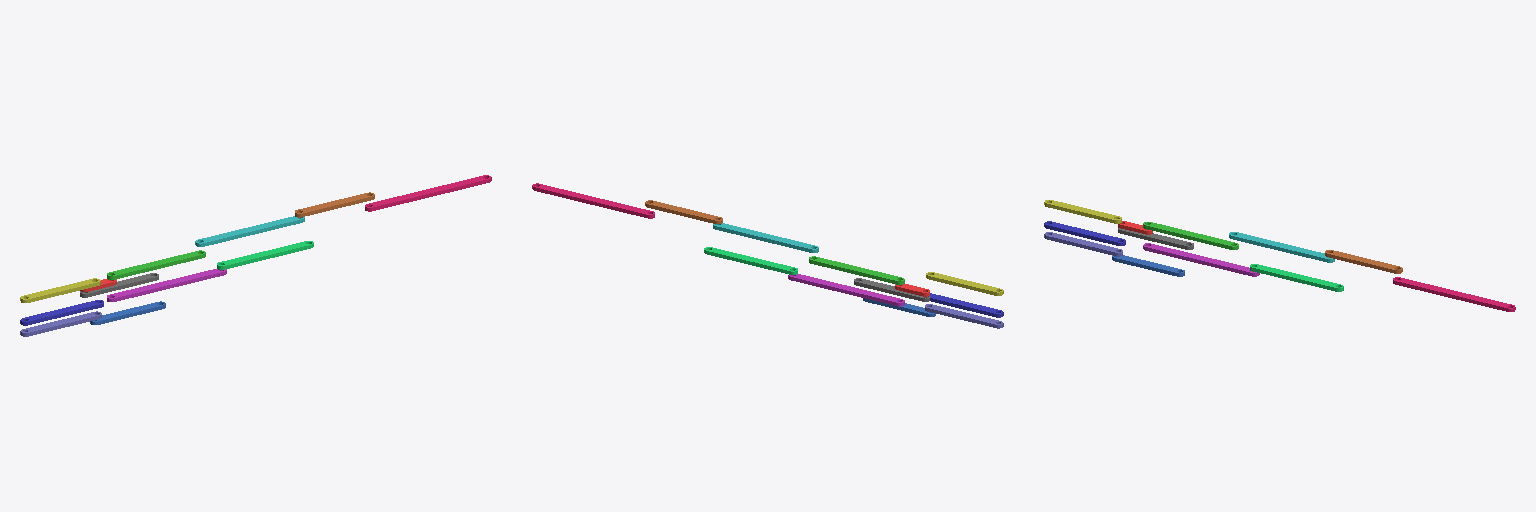
The robot description file, URDF, robot "theo_jansen_leg":
<?xml version="1.0"?>
<robot name="theo_jansen_leg">

  <link name="chassis">
    <visual>
      <origin xyz="0 0 0" rpy="0 0 0"/>
      <geometry><mesh filename="meshes/chassis.stl" scale="0.001 0.001 0.001"/></geometry>
      <material name="m_chassis"><color rgba="0.5 0.5 0.5 1.0"/></material>
    </visual>
    <inertial>
      <mass value="0.005"/>
      <origin xyz="0.0194 0 0"/>
      <inertia ixx="1e-7" ixy="0" ixz="0" iyy="1e-7" iyz="0" izz="1e-7"/>
    </inertial>
  </link>

  <link name="crank_AC">
    <visual>
      <origin xyz="0 0 0" rpy="0 0 0"/>
      <geometry><mesh filename="meshes/crank_AC.stl" scale="0.001 0.001 0.001"/></geometry>
      <material name="m_crank_AC"><color rgba="1 0.3 0.3 1.0"/></material>
    </visual>
    <inertial>
      <mass value="0.005"/>
      <origin xyz="0.0075 0 0"/>
      <inertia ixx="1e-7" ixy="0" ixz="0" iyy="1e-7" iyz="0" izz="1e-7"/>
    </inertial>
  </link>

  <link name="link_CD">
    <visual>
      <origin xyz="0 0 0" rpy="0 0 0"/>
      <geometry><mesh filename="meshes/link_CD.stl" scale="0.001 0.001 0.001"/></geometry>
      <material name="m_link_CD"><color rgba="0.3 0.8 0.3 1.0"/></material>
    </visual>
    <inertial>
      <mass value="0.005"/>
      <origin xyz="0.0250 0 0"/>
      <inertia ixx="1e-7" ixy="0" ixz="0" iyy="1e-7" iyz="0" izz="1e-7"/>
    </inertial>
  </link>

  <link name="link_BD">
    <visual>
      <origin xyz="0 0 0" rpy="0 0 0"/>
      <geometry><mesh filename="meshes/link_BD.stl" scale="0.001 0.001 0.001"/></geometry>
      <material name="m_link_BD"><color rgba="0.3 0.3 0.8 1.0"/></material>
    </visual>
    <inertial>
      <mass value="0.005"/>
      <origin xyz="0.0208 0 0"/>
      <inertia ixx="1e-7" ixy="0" ixz="0" iyy="1e-7" iyz="0" izz="1e-7"/>
    </inertial>
  </link>

  <link name="link_BE">
    <visual>
      <origin xyz="0 0 0" rpy="0 0 0"/>
      <geometry><mesh filename="meshes/link_BE.stl" scale="0.001 0.001 0.001"/></geometry>
      <material name="m_link_BE"><color rgba="0.8 0.8 0.3 1.0"/></material>
    </visual>
    <inertial>
      <mass value="0.005"/>
      <origin xyz="0.0196 0 0"/>
      <inertia ixx="1e-7" ixy="0" ixz="0" iyy="1e-7" iyz="0" izz="1e-7"/>
    </inertial>
  </link>

  <link name="link_CE">
    <visual>
      <origin xyz="0 0 0" rpy="0 0 0"/>
      <geometry><mesh filename="meshes/link_CE.stl" scale="0.001 0.001 0.001"/></geometry>
      <material name="m_link_CE"><color rgba="0.8 0.3 0.8 1.0"/></material>
    </visual>
    <inertial>
      <mass value="0.005"/>
      <origin xyz="0.0309 0 0"/>
      <inertia ixx="1e-7" ixy="0" ixz="0" iyy="1e-7" iyz="0" izz="1e-7"/>
    </inertial>
  </link>

  <link name="link_DF">
    <visual>
      <origin xyz="0 0 0" rpy="0 0 0"/>
      <geometry><mesh filename="meshes/link_DF.stl" scale="0.001 0.001 0.001"/></geometry>
      <material name="m_link_DF"><color rgba="0.3 0.8 0.8 1.0"/></material>
    </visual>
    <inertial>
      <mass value="0.005"/>
      <origin xyz="0.0279 0 0"/>
      <inertia ixx="1e-7" ixy="0" ixz="0" iyy="1e-7" iyz="0" izz="1e-7"/>
    </inertial>
  </link>

  <link name="link_BF">
    <visual>
      <origin xyz="0 0 0" rpy="0 0 0"/>
      <geometry><mesh filename="meshes/link_BF.stl" scale="0.001 0.001 0.001"/></geometry>
      <material name="m_link_BF"><color rgba="0.5 0.5 0.8 1.0"/></material>
    </visual>
    <inertial>
      <mass value="0.005"/>
      <origin xyz="0.0201 0 0"/>
      <inertia ixx="1e-7" ixy="0" ixz="0" iyy="1e-7" iyz="0" izz="1e-7"/>
    </inertial>
  </link>

  <link name="link_FG">
    <visual>
      <origin xyz="0 0 0" rpy="0 0 0"/>
      <geometry><mesh filename="meshes/link_FG.stl" scale="0.001 0.001 0.001"/></geometry>
      <material name="m_link_FG"><color rgba="0.8 0.5 0.3 1.0"/></material>
    </visual>
    <inertial>
      <mass value="0.005"/>
      <origin xyz="0.0197 0 0"/>
      <inertia ixx="1e-7" ixy="0" ixz="0" iyy="1e-7" iyz="0" izz="1e-7"/>
    </inertial>
  </link>

  <link name="link_EG">
    <visual>
      <origin xyz="0 0 0" rpy="0 0 0"/>
      <geometry><mesh filename="meshes/link_EG.stl" scale="0.001 0.001 0.001"/></geometry>
      <material name="m_link_EG"><color rgba="0.3 0.5 0.8 1.0"/></material>
    </visual>
    <inertial>
      <mass value="0.005"/>
      <origin xyz="0.0184 0 0"/>
      <inertia ixx="1e-7" ixy="0" ixz="0" iyy="1e-7" iyz="0" izz="1e-7"/>
    </inertial>
  </link>

  <link name="link_GH">
    <visual>
      <origin xyz="0 0 0" rpy="0 0 0"/>
      <geometry><mesh filename="meshes/link_GH.stl" scale="0.001 0.001 0.001"/></geometry>
      <material name="m_link_GH"><color rgba="0.9 0.2 0.5 1.0"/></material>
    </visual>
    <inertial>
      <mass value="0.005"/>
      <origin xyz="0.0329 0 0"/>
      <inertia ixx="1e-7" ixy="0" ixz="0" iyy="1e-7" iyz="0" izz="1e-7"/>
    </inertial>
  </link>

  <link name="link_EH">
    <visual>
      <origin xyz="0 0 0" rpy="0 0 0"/>
      <geometry><mesh filename="meshes/link_EH.stl" scale="0.001 0.001 0.001"/></geometry>
      <material name="m_link_EH"><color rgba="0.2 0.9 0.5 1.0"/></material>
    </visual>
    <inertial>
      <mass value="0.005"/>
      <origin xyz="0.0245 0 0"/>
      <inertia ixx="1e-7" ixy="0" ixz="0" iyy="1e-7" iyz="0" izz="1e-7"/>
    </inertial>
  </link>
  <joint name="j_crank" type="revolute">
    <parent link="chassis"/><child link="crank_AC"/>
    <origin xyz="0 0 0.0030" rpy="0 0 0"/>
    <axis xyz="0 0 1"/>
    <limit lower="-6.28" upper="6.28" effort="1" velocity="6.28"/>
  </joint>
  <joint name="j_C_CD" type="revolute">
    <parent link="crank_AC"/><child link="link_CD"/>
    <origin xyz="0.0150 0 0.0030" rpy="0 0 0"/>
    <axis xyz="0 0 1"/>
    <limit lower="-6.28" upper="6.28" effort="1" velocity="6.28"/>
  </joint>
  <joint name="j_B_BD" type="revolute">
    <parent link="chassis"/><child link="link_BD"/>
    <origin xyz="-0.0380 -0.0078 -0.0030" rpy="0 0 0"/>
    <axis xyz="0 0 1"/>
    <limit lower="-6.28" upper="6.28" effort="1" velocity="6.28"/>
  </joint>
  <joint name="j_C_CE" type="revolute">
    <parent link="crank_AC"/><child link="link_CE"/>
    <origin xyz="0.0150 0 -0.0090" rpy="0 0 0"/>
    <axis xyz="0 0 1"/>
    <limit lower="-6.28" upper="6.28" effort="1" velocity="6.28"/>
  </joint>
  <joint name="j_B_BE" type="revolute">
    <parent link="chassis"/><child link="link_BE"/>
    <origin xyz="-0.0380 -0.0078 0.0090" rpy="0 0 0"/>
    <axis xyz="0 0 1"/>
    <limit lower="-6.28" upper="6.28" effort="1" velocity="6.28"/>
  </joint>
  <joint name="j_D_DF" type="revolute">
    <parent link="link_CD"/><child link="link_DF"/>
    <origin xyz="0.0500 0 0.0060" rpy="0 0 0"/>
    <axis xyz="0 0 1"/>
    <limit lower="-6.28" upper="6.28" effort="1" velocity="6.28"/>
  </joint>
  <joint name="j_B_BF" type="revolute">
    <parent link="chassis"/><child link="link_BF"/>
    <origin xyz="-0.0380 -0.0078 -0.0090" rpy="0 0 0"/>
    <axis xyz="0 0 1"/>
    <limit lower="-6.28" upper="6.28" effort="1" velocity="6.28"/>
  </joint>
  <joint name="j_F_FG" type="revolute">
    <parent link="link_DF"/><child link="link_FG"/>
    <origin xyz="0.0558 0 0.0030" rpy="0 0 0"/>
    <axis xyz="0 0 1"/>
    <limit lower="-6.28" upper="6.28" effort="1" velocity="6.28"/>
  </joint>
  <joint name="j_E_EG" type="revolute">
    <parent link="link_BE"/><child link="link_EG"/>
    <origin xyz="0.0393 0 -0.0210" rpy="0 0 0"/>
    <axis xyz="0 0 1"/>
    <limit lower="-6.28" upper="6.28" effort="1" velocity="6.28"/>
  </joint>
  <joint name="j_G_GH" type="revolute">
    <parent link="link_FG"/><child link="link_GH"/>
    <origin xyz="0.0394 0 -0.0060" rpy="0 0 0"/>
    <axis xyz="0 0 1"/>
    <limit lower="-6.28" upper="6.28" effort="1" velocity="6.28"/>
  </joint>
  <joint name="j_E_EH" type="revolute">
    <parent link="link_CE"/><child link="link_EH"/>
    <origin xyz="0.0619 0 0.0030" rpy="0 0 0"/>
    <axis xyz="0 0 1"/>
    <limit lower="-6.28" upper="6.28" effort="1" velocity="6.28"/>
  </joint>

</robot>

--- Facts derived from the render (not from the file) ---
The picture shows the robot from 3 angles, left to right: view 1: azimuth 30°, elevation 25°; view 2: azimuth 150°, elevation 25°; view 3: azimuth 330°, elevation 25°; orthographic projection.
Model theo_jansen_leg with 12 links and 11 joints (11 revolute), rooted at chassis, posed every joint at zero.
Links seen in each view (by area): view 1: link_GH, link_CE, link_DF, link_CD, link_EH, link_BD, link_BF, link_BE, link_FG, link_EG, chassis; view 2: link_GH, link_CE, link_DF, link_CD, link_EH, link_BF, link_BE, link_FG, link_BD, chassis; view 3: link_GH, link_CE, link_DF, link_CD, link_EH, link_BD, link_BF, link_BE, link_FG, link_EG, chassis.
Boxes of the visible links, bbox=[...] form: link_GH: bbox=[365, 175, 491, 211]; link_CE: bbox=[107, 269, 226, 301]; link_DF: bbox=[195, 216, 304, 246]; link_CD: bbox=[107, 250, 205, 279]; link_EH: bbox=[217, 241, 313, 269]; link_BD: bbox=[20, 300, 103, 325]; link_BF: bbox=[20, 311, 101, 336]; link_BE: bbox=[20, 278, 100, 302]; link_FG: bbox=[295, 192, 374, 217]; link_EG: bbox=[90, 301, 165, 324]; chassis: bbox=[80, 273, 158, 297]; link_GH: bbox=[532, 183, 654, 218]; link_CE: bbox=[788, 274, 904, 306]; link_DF: bbox=[713, 223, 818, 252]; link_CD: bbox=[809, 256, 904, 284]; link_EH: bbox=[704, 247, 797, 274]; link_BF: bbox=[925, 304, 1003, 328]; link_BE: bbox=[926, 272, 1003, 295]; link_FG: bbox=[645, 200, 722, 223]; link_BD: bbox=[930, 293, 1003, 317]; chassis: bbox=[854, 278, 929, 301]; link_GH: bbox=[1393, 277, 1515, 311]; link_CE: bbox=[1143, 243, 1259, 276]; link_DF: bbox=[1229, 232, 1334, 262]; link_CD: bbox=[1143, 222, 1238, 249]; link_EH: bbox=[1250, 264, 1343, 291]; link_BD: bbox=[1044, 221, 1125, 245]; link_BF: bbox=[1044, 232, 1122, 256]; link_BE: bbox=[1044, 200, 1121, 223]; link_FG: bbox=[1325, 250, 1402, 273]; link_EG: bbox=[1112, 255, 1184, 276]; chassis: bbox=[1118, 228, 1193, 249].
Size in the robot's own frame: 0.2689 by 0.0128 by 0.029 metres.
12 mesh visuals loaded from 12 distinct referenced files (12 binary STL).
